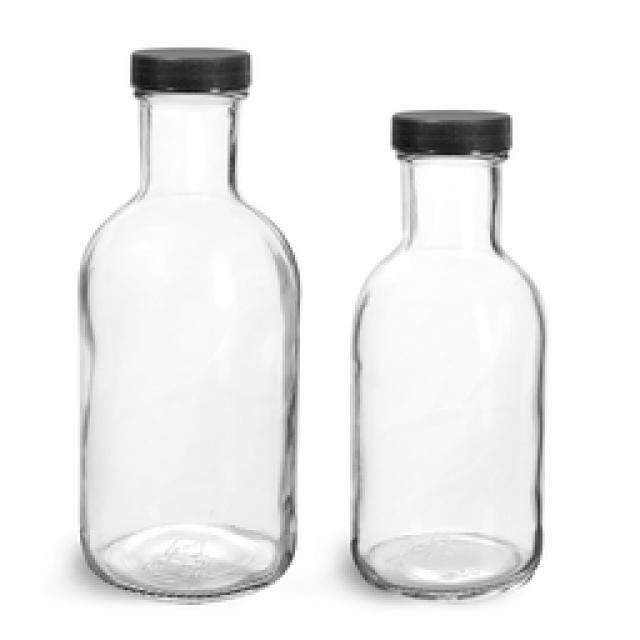glass_beverage_bottles: (74, 48, 304, 602), (360, 110, 542, 592)
